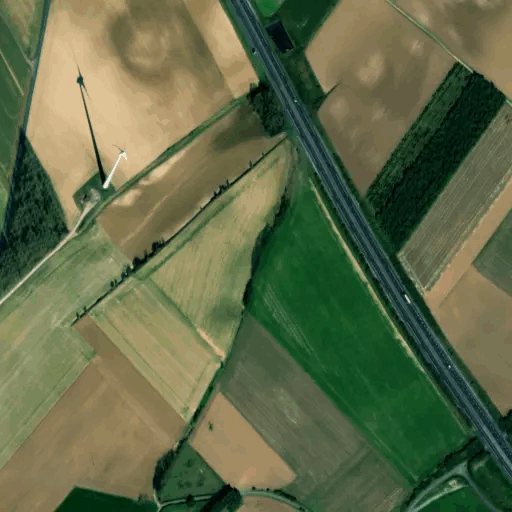wt: (71, 52, 131, 199)
